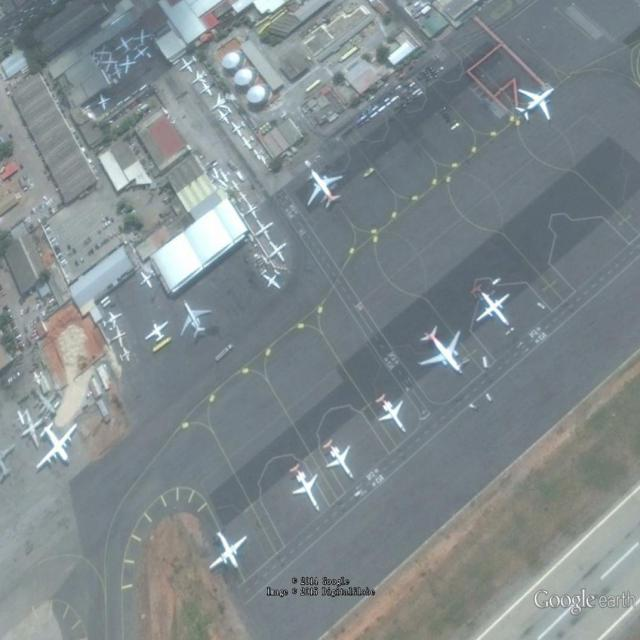aircraft: (417, 324, 465, 378), (36, 419, 82, 473), (469, 281, 514, 332), (208, 525, 250, 576), (288, 460, 324, 515), (376, 390, 411, 439), (309, 168, 347, 213), (516, 87, 559, 126), (322, 437, 357, 484), (179, 301, 215, 341), (20, 408, 50, 453), (36, 389, 63, 421), (1, 441, 18, 485), (104, 322, 129, 351), (265, 240, 290, 267), (145, 319, 170, 345), (101, 309, 125, 332), (254, 219, 278, 242), (261, 269, 285, 292), (209, 93, 233, 114), (116, 55, 140, 76), (115, 34, 136, 57), (98, 53, 120, 74), (179, 55, 200, 76), (105, 62, 124, 85), (132, 28, 152, 49), (95, 45, 114, 66), (217, 106, 236, 126), (240, 203, 261, 221), (230, 118, 248, 139), (131, 45, 152, 62), (191, 68, 210, 86), (96, 93, 114, 112), (241, 133, 257, 154), (140, 271, 156, 291), (118, 345, 132, 366), (217, 169, 233, 187), (228, 178, 244, 196), (235, 191, 251, 209), (217, 175, 232, 192), (15, 408, 27, 429), (200, 82, 214, 100), (32, 371, 44, 389), (258, 153, 270, 167), (211, 167, 221, 183), (254, 149, 263, 161)
